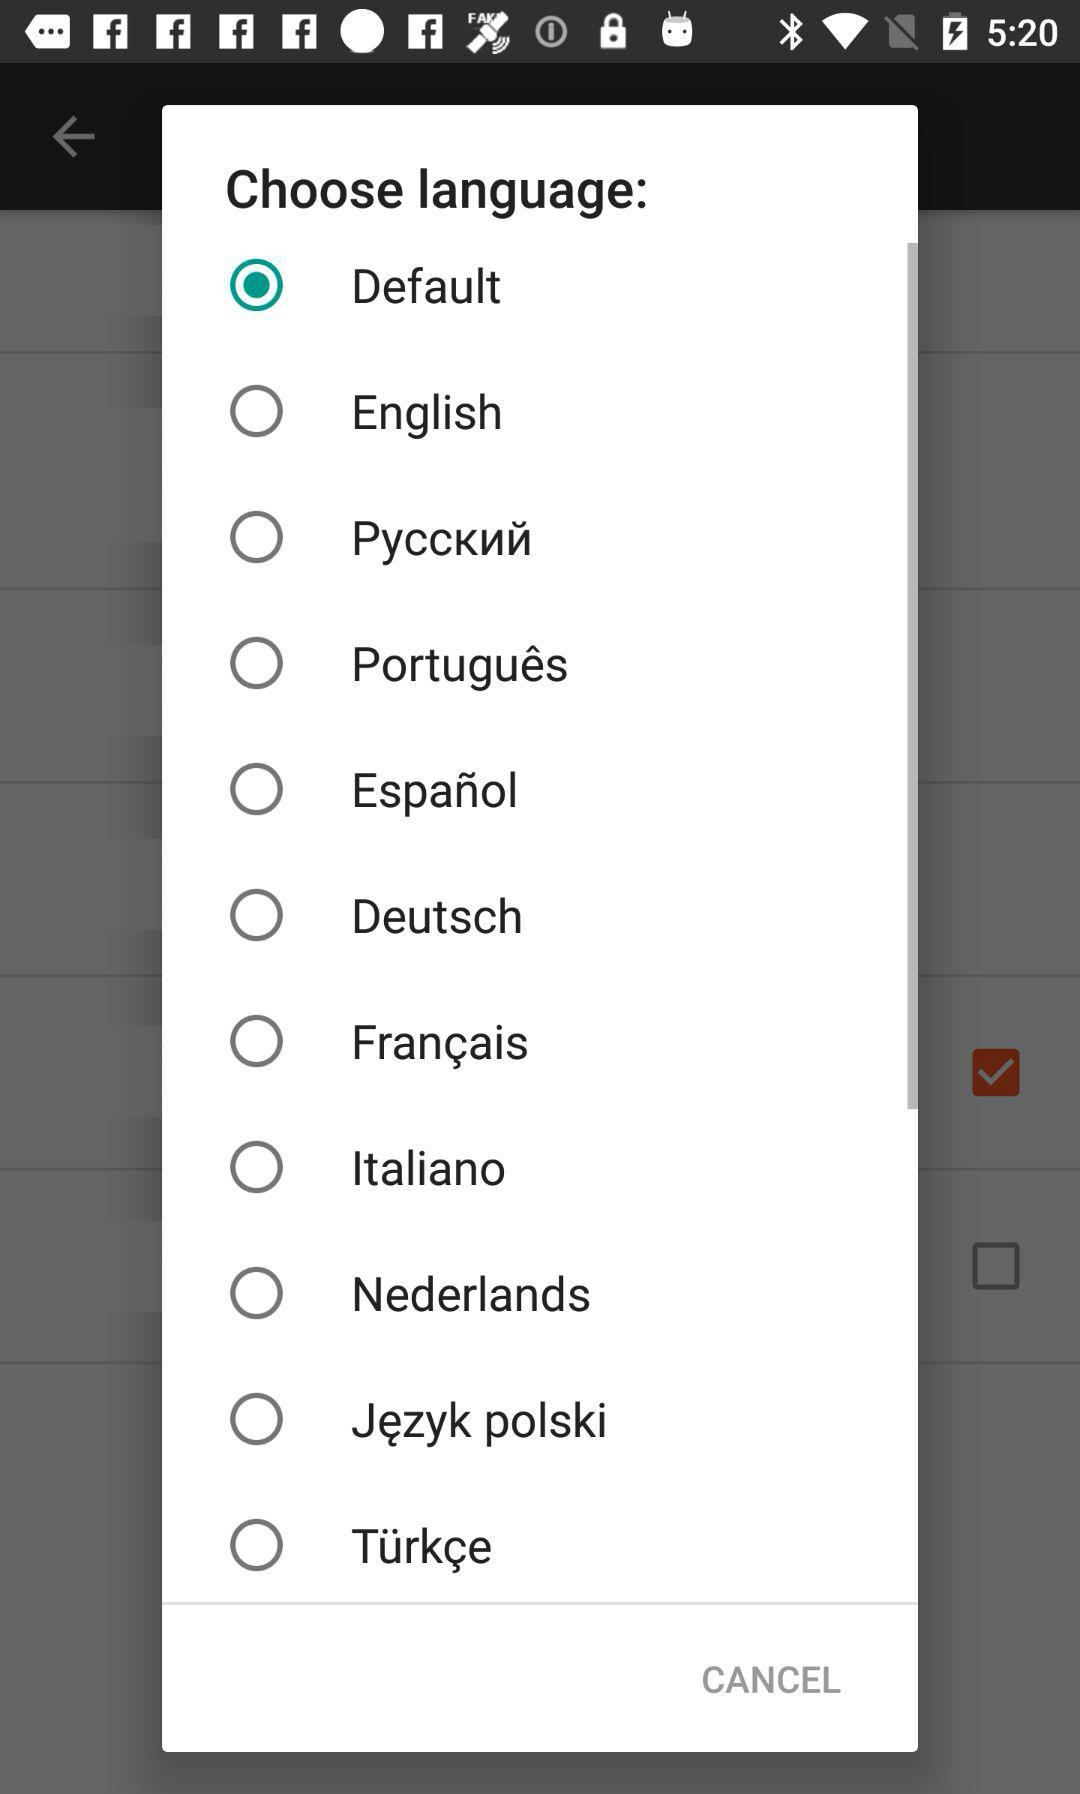CheckedTextView: (231, 1392, 607, 1448), (231, 1266, 591, 1321), (231, 637, 569, 692), (231, 1014, 528, 1070), (231, 511, 530, 566), (231, 888, 521, 943), (231, 762, 518, 818), (231, 384, 502, 441), (229, 258, 501, 313), (231, 1140, 506, 1194), (231, 1518, 493, 1574)
Icon: (53, 117, 97, 160)
Modal: (161, 105, 919, 1753)
Text: (227, 169, 647, 220), (351, 1401, 607, 1448), (354, 645, 569, 692), (354, 1275, 591, 1313), (354, 1023, 528, 1070), (355, 522, 530, 566), (354, 771, 518, 818), (354, 392, 502, 441), (351, 1526, 493, 1574), (355, 897, 521, 935), (354, 267, 501, 305), (355, 1149, 505, 1187), (702, 1665, 843, 1695)
UpperTaskBar: (1, 1, 1080, 64)
